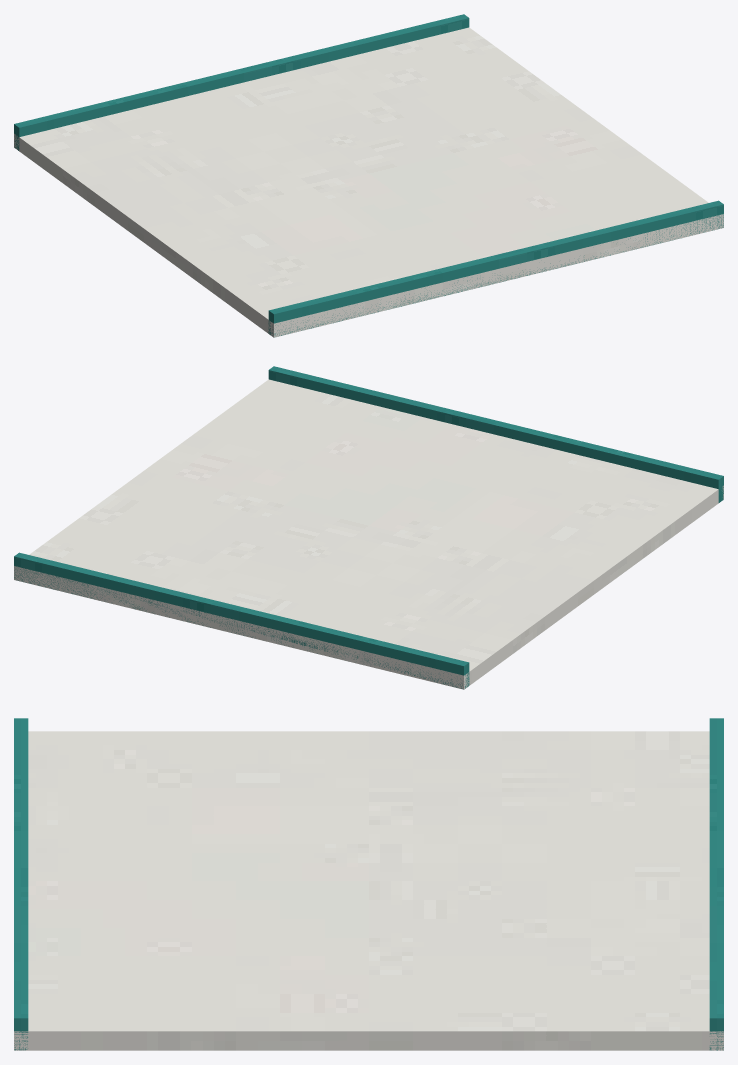
3 views of the same model, one above another, from view 1: azimuth 30°, elevation 25°; view 2: azimuth 150°, elevation 25°; view 3: azimuth 270°, elevation 25° (orthographic). The views are drawn at different scales.
Visible parts, largest first — view 1: Decor_shelf_kit/board; view 2: Decor_shelf_kit/board; view 3: Decor_shelf_kit/board.
Boxes of the visible parts, x1,y1,x2,y2 form: Decor_shelf_kit/board: (14, 14, 723, 337); Decor_shelf_kit/board: (14, 366, 723, 689); Decor_shelf_kit/board: (14, 718, 723, 1050).
Size of the model in its own units: 1 by 0.05 by 1.
2 materials, 2 textured.
